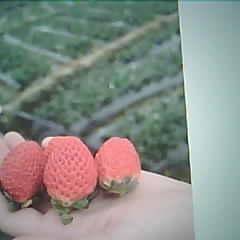straw-ripe: (44, 135, 96, 205), (0, 142, 44, 202), (98, 137, 140, 193)
